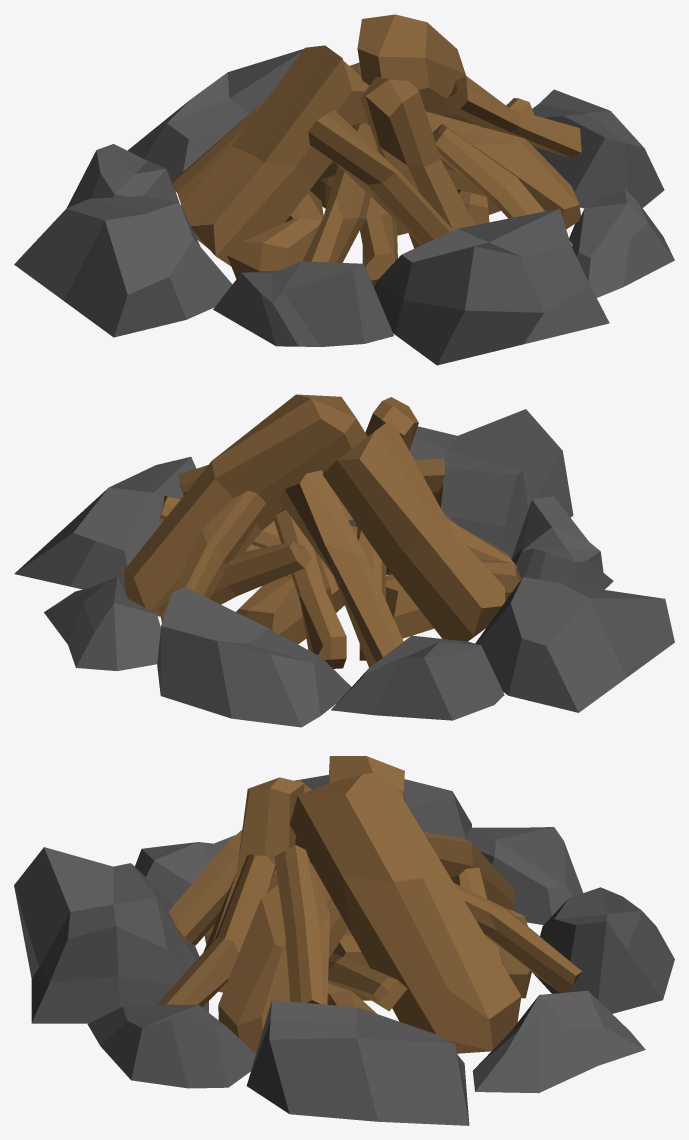
The model's file is campfire.glb.
3 views of the same model, one above another, from view 1: azimuth 30°, elevation 25°; view 2: azimuth 150°, elevation 25°; view 3: azimuth 270°, elevation 25° (orthographic). The views are drawn at different scales.
Parts seen in each view (by area): view 1: Rock, Wood; view 2: Rock, Wood; view 3: Rock, Wood.
Boxes of the visible parts, box(x1,y1,x2,y2) form: Rock: box(14, 49, 674, 365); Wood: box(172, 14, 581, 287); Rock: box(14, 409, 674, 727); Wood: box(124, 394, 521, 668); Rock: box(14, 775, 674, 1125); Wood: box(157, 756, 581, 1053).
Bounding box in the file's own units: 3.91 × 1.33 × 3.62.
